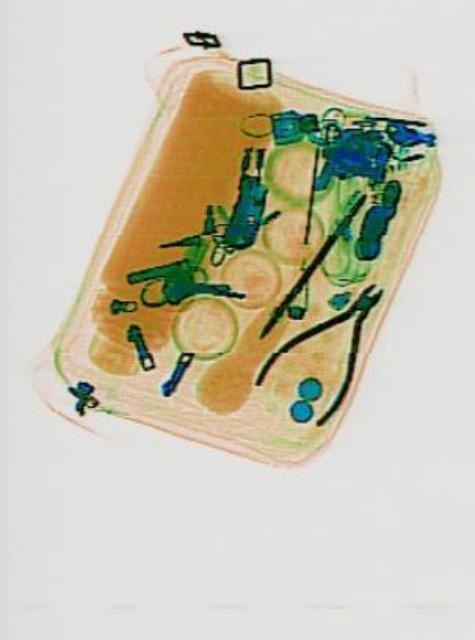Pliers: (248, 249, 407, 446)
